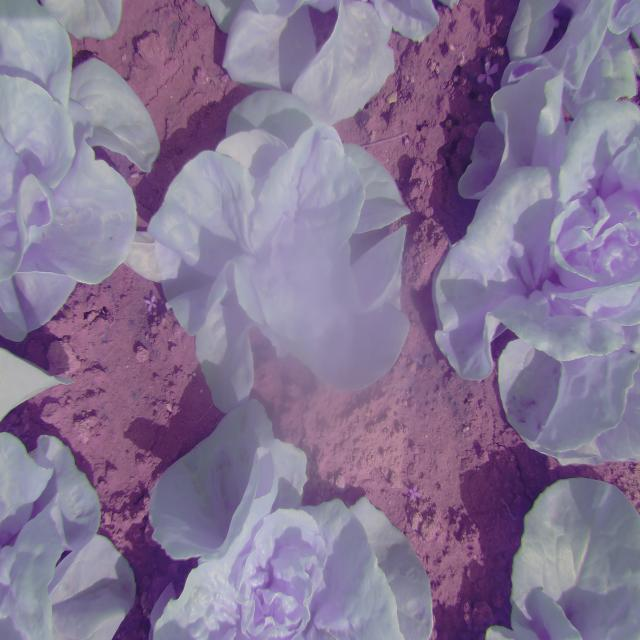vege: (146, 95, 416, 407)
